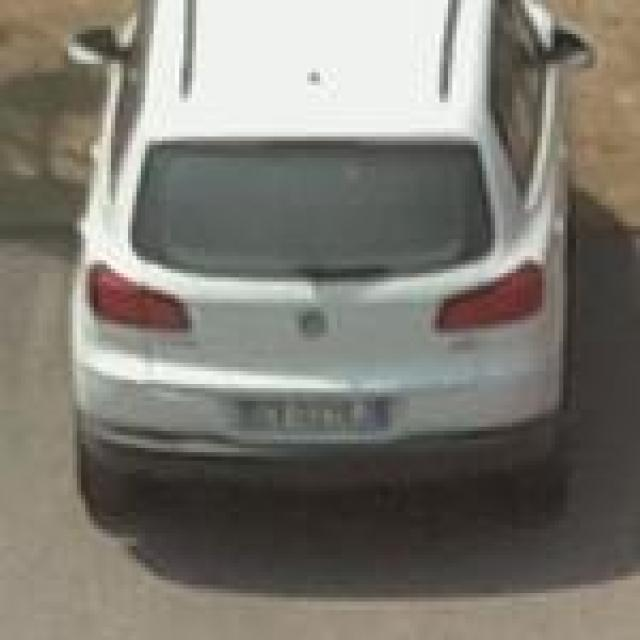cars-sUYr: (46, 6, 608, 558)
